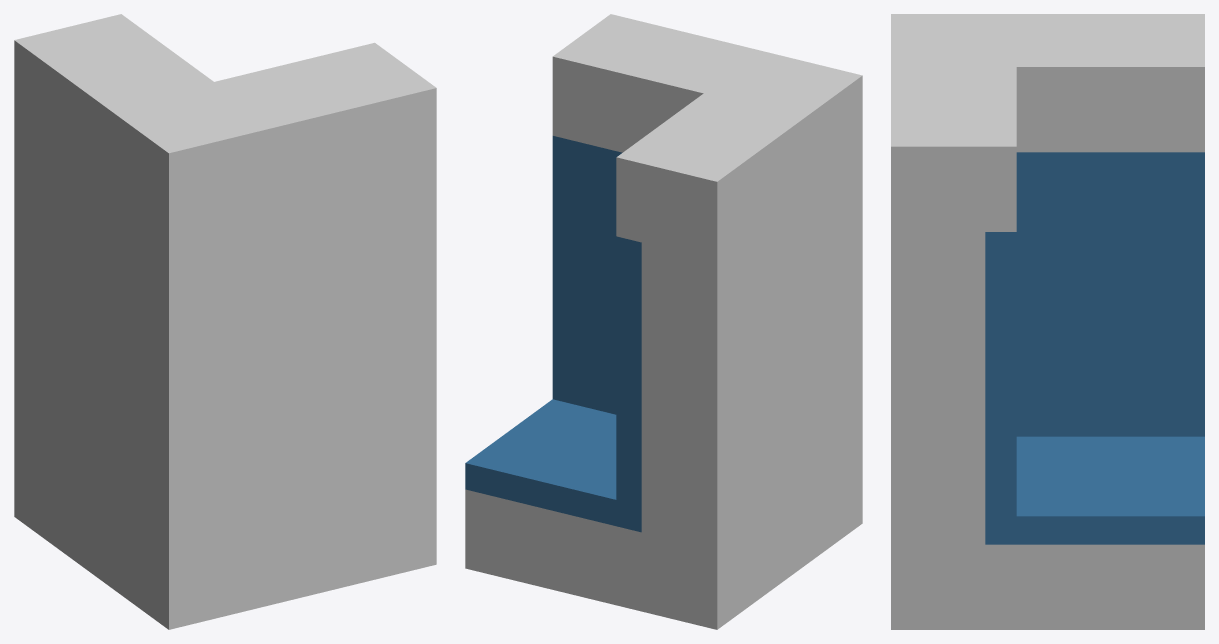
The model's file is buildings_pool-part-corner-1x1m.fbx.
3 views of the same model, side by side, from view 1: azimuth 30°, elevation 25°; view 2: azimuth 150°, elevation 25°; view 3: azimuth 270°, elevation 25° (orthographic). The views are drawn at different scales.
Visible parts, largest first — view 1: buildings_pool_part_corner_1x1m; view 2: buildings_pool_part_corner_1x1m; view 3: buildings_pool_part_corner_1x1m.
Part boxes in pixels (<box>): buildings_pool_part_corner_1x1m: <box>14,14,436,629</box>; buildings_pool_part_corner_1x1m: <box>465,14,862,629</box>; buildings_pool_part_corner_1x1m: <box>891,14,1204,629</box>.
Size of the model in its own units: 118 by 200 by 118.
